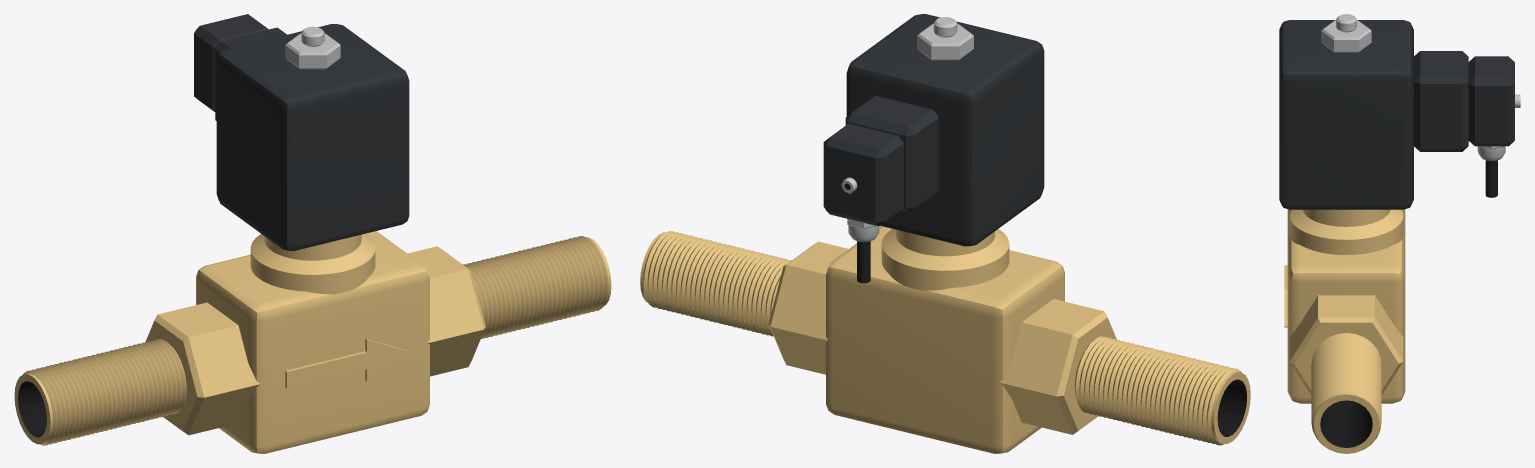
File: valve_solenoid_dn25.glb
3 views of the same model, side by side, from view 1: azimuth 30°, elevation 25°; view 2: azimuth 150°, elevation 25°; view 3: azimuth 270°, elevation 25° (orthographic). The views are drawn at different scales.
Visible parts, largest first — view 1: Valve_Body; view 2: Valve_Body; view 3: Valve_Body.
Part boxes in pixels (x1=…): Valve_Body: x1=14, y1=14, x2=611, y2=453; Valve_Body: x1=640, y1=14, x2=1250, y2=453; Valve_Body: x1=1279, y1=14, x2=1520, y2=453.
Bounding box in the file's own units: 0.28 × 0.184 × 0.1148.
